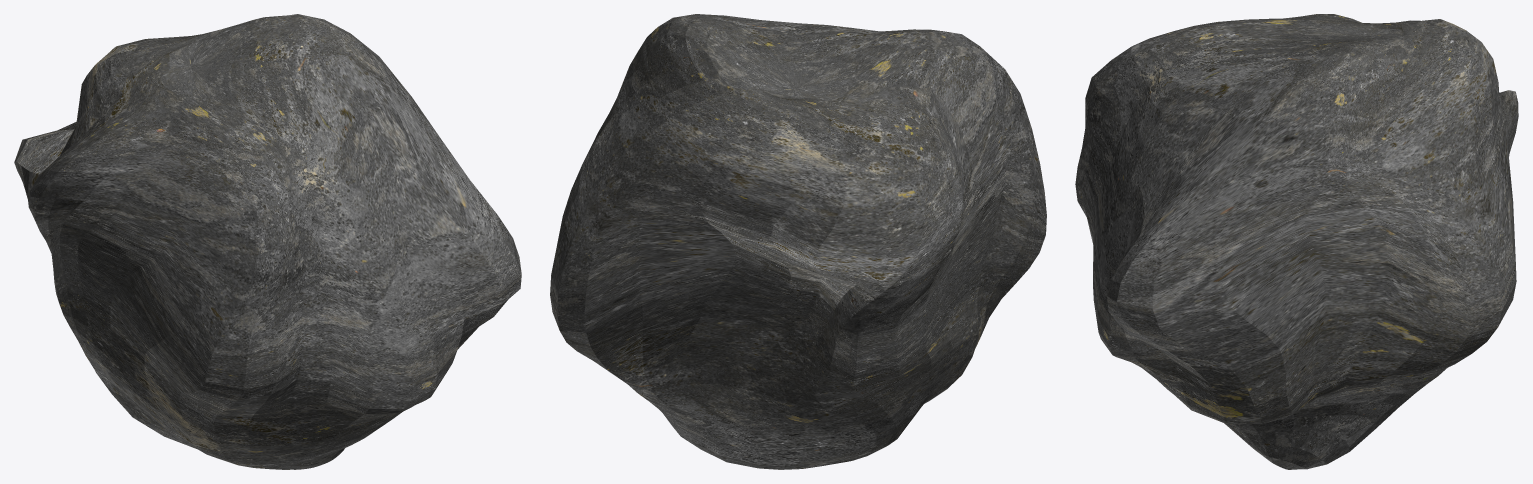
Rendered from MediumAsteroid2.fbx.
3 renders of one model, left to right at view 1: azimuth 30°, elevation 25°; view 2: azimuth 150°, elevation 25°; view 3: azimuth 270°, elevation 25°, orthographic. The views are drawn at different scales.
Visible parts, largest first — view 1: Sphere; view 2: Sphere; view 3: Sphere.
Part boxes in pixels (left/top/right/bottom): Sphere: left=14, top=14, right=521, bottom=469; Sphere: left=550, top=14, right=1046, bottom=469; Sphere: left=1075, top=14, right=1518, bottom=469.
Bounding box in the file's own units: 51.81 × 55.5 × 52.93.
Materials: 1 (1 with a texture image).
